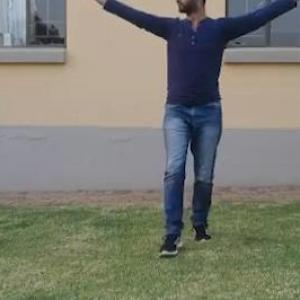takeoff: (95, 0, 267, 193)
